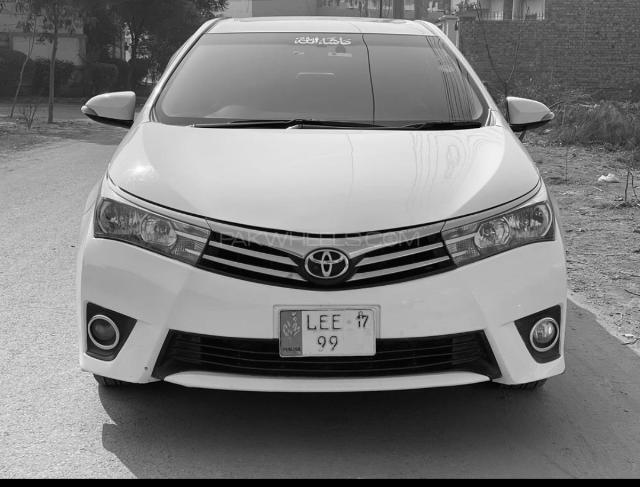Number: (304, 314, 350, 352)
